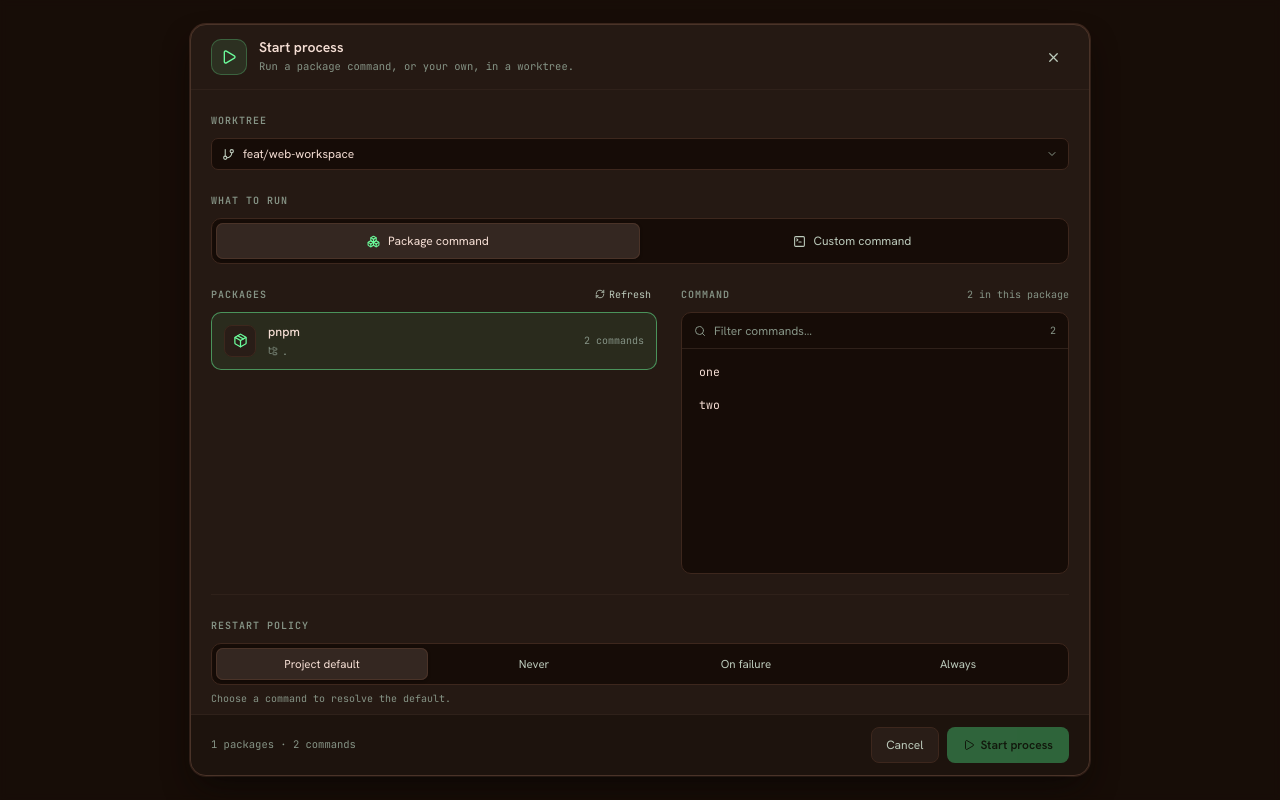
Test: does not discard discovery when reselecting the current worktree and rejects invalid retry limits
Click the option "one" at (709, 372), box [688,355,1062,388]
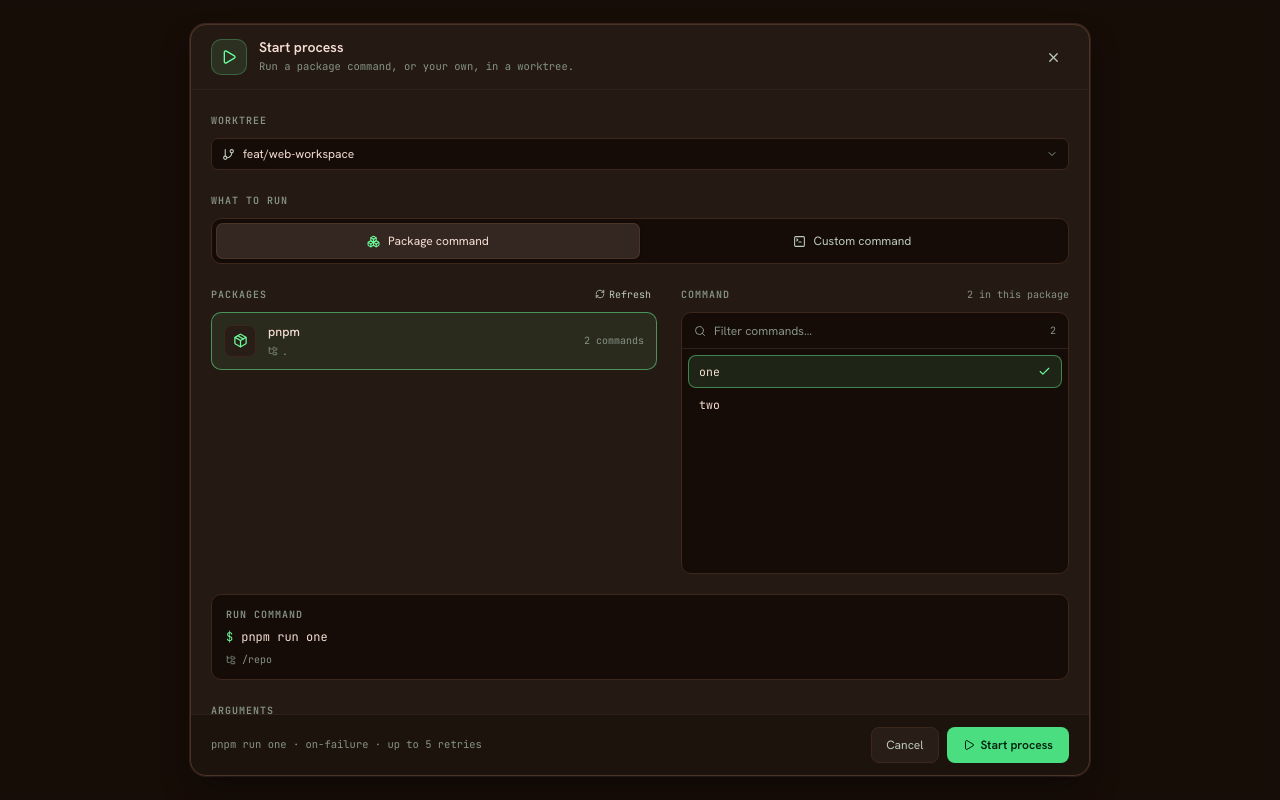
expect the button "Start process" is enabled: met, box [946,727,1069,763]
Replace the text in the button with aria-label "Process worktree and branch" with "wt-web" at (299, 154), box [211,138,1069,170]
(page scrolled)
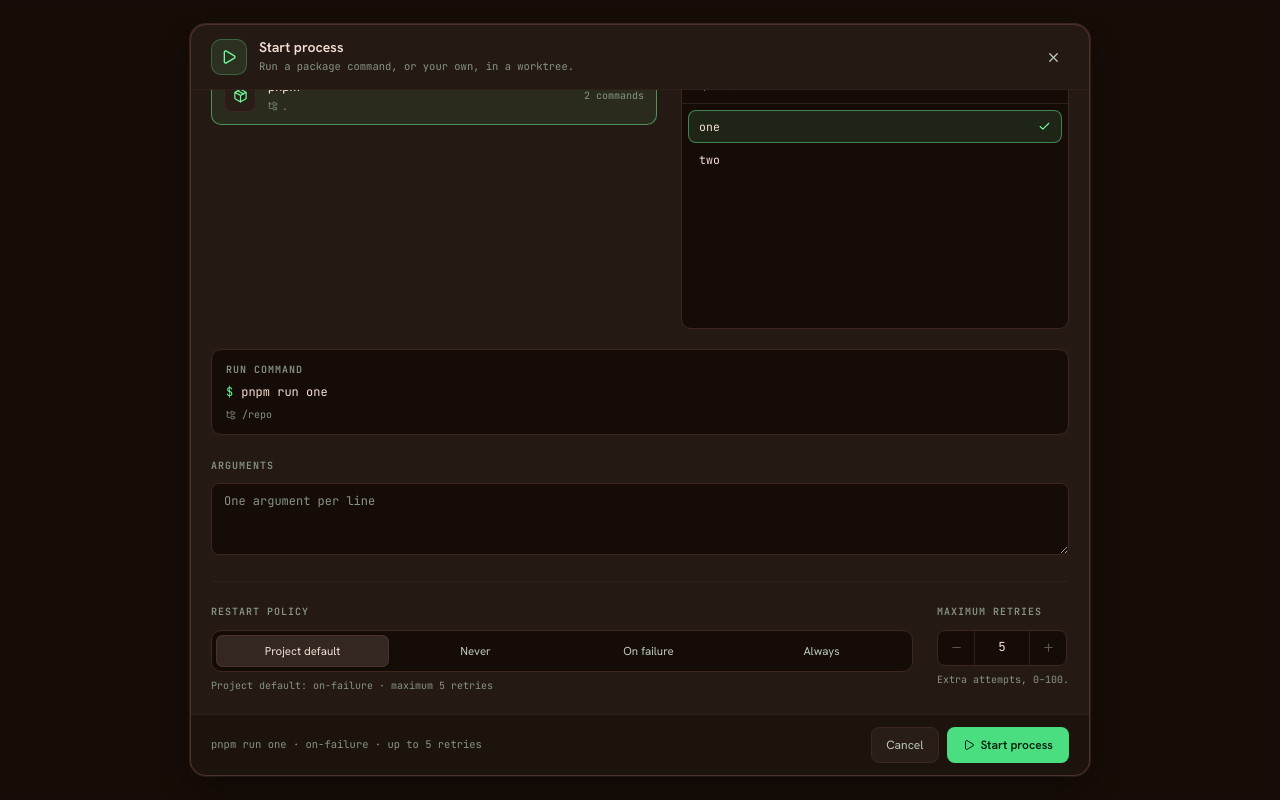
expect the option "one" is selected: met, box [688,110,1062,143]
Click the button "On failure" at (648, 650), box [562,634,735,666]
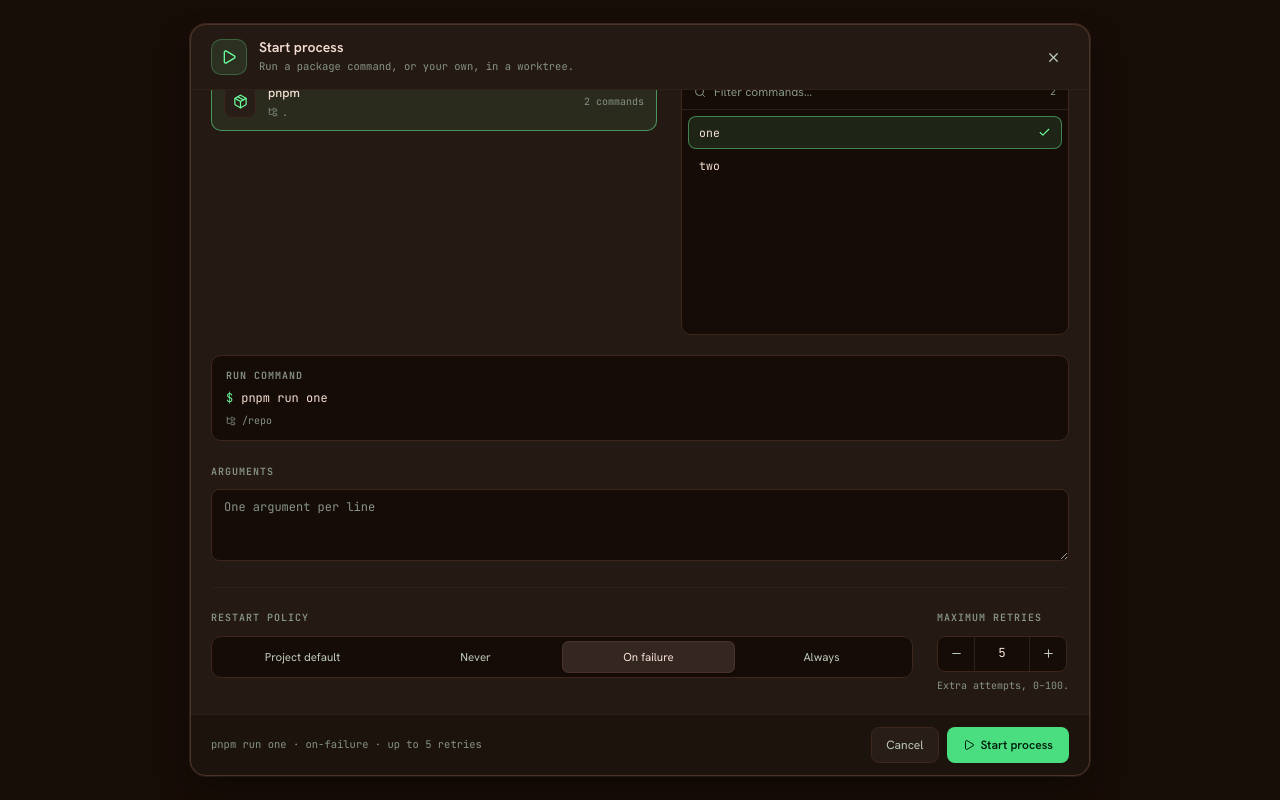
Replace the text in the number field named "Maximum retries" with "-1" at (1002, 654), box [974,636,1030,670]
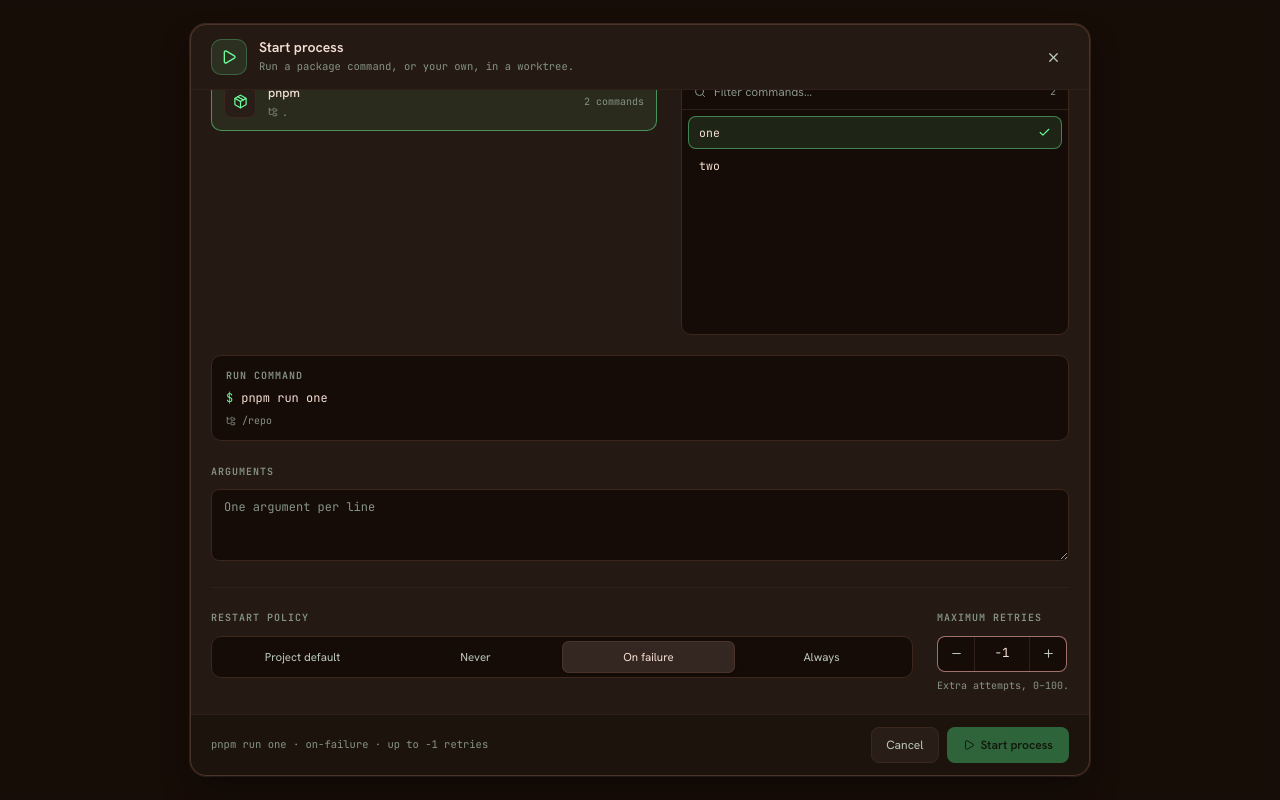
expect the button "Start process" is disabled: met, box [946,727,1069,763]
